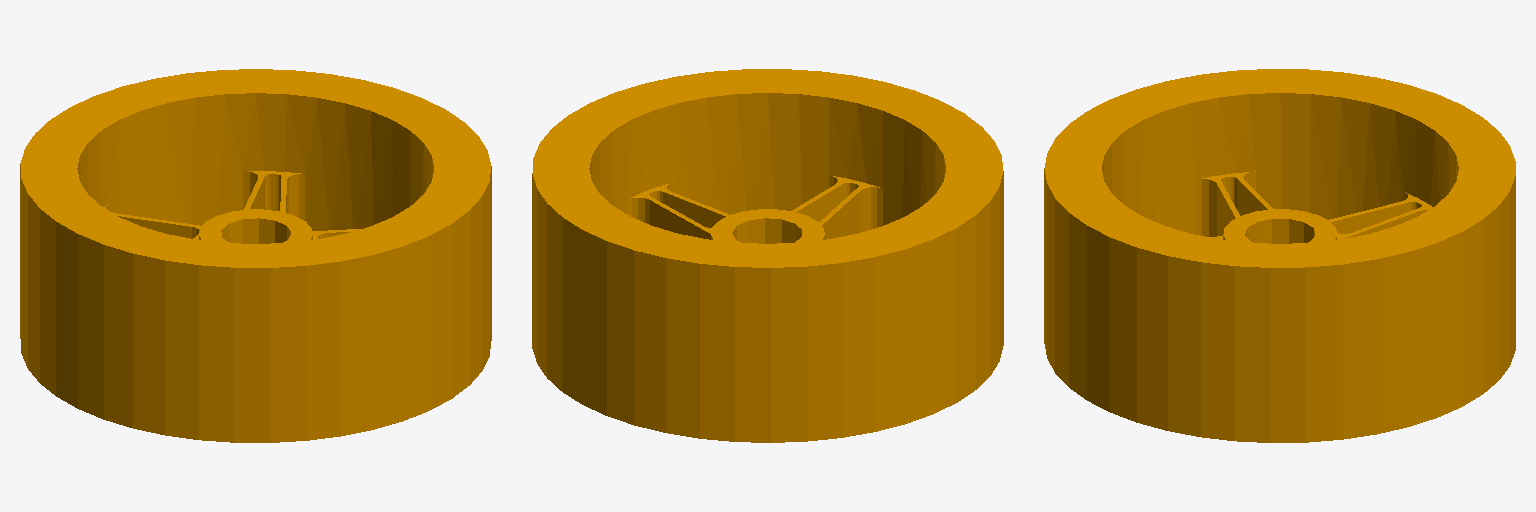
URDF robot description (00030_socket):
<?xml version="1.0"?>
<robot name="00030_socket">
	<link name="00030_socket">
		<visual>
			<geometry>
				<mesh filename="../mesh/00030/asset_socket.obj"/>
			</geometry>
		</visual>
		<collision>
			<geometry>
				<mesh filename="../mesh/00030/asset_socket.obj"/>
			</geometry>
			<sdf resolution="256"/>
		</collision>
	</link>
</robot>

--- Facts derived from the render (not from the file) ---
The picture shows the robot from 3 angles, left to right: view 1: azimuth 30°, elevation 25°; view 2: azimuth 150°, elevation 25°; view 3: azimuth 270°, elevation 25°; orthographic projection.
Robot: 00030_socket — 1 links, 0 joints (none); root link 00030_socket; default pose: all joints at 0.
Links seen in each view (by area): view 1: 00030_socket; view 2: 00030_socket; view 3: 00030_socket.
Boxes of the visible links, <box> form: 00030_socket: <box>20,69,491,442</box>; 00030_socket: <box>532,69,1003,442</box>; 00030_socket: <box>1044,69,1515,442</box>.
Bounding box of the posed robot: 0.0493 × 0.0493 × 0.0202 m (x, y, z).
Meshes: 1 distinct files referenced, 1 mesh visuals loaded (1 OBJ).